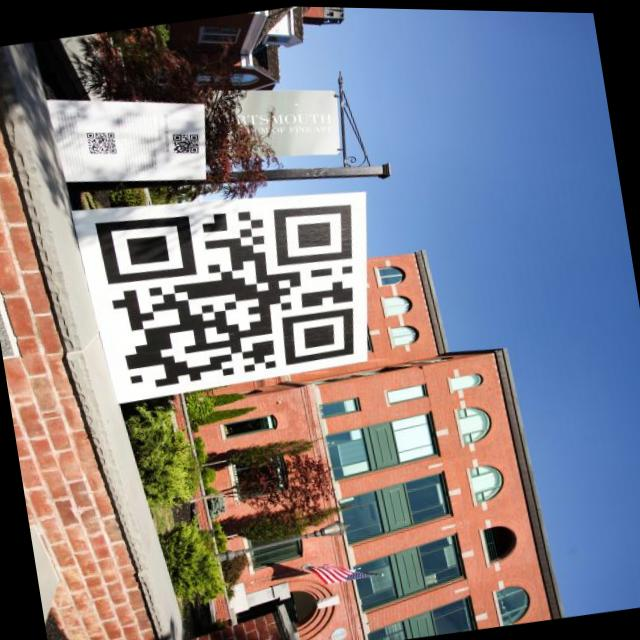qrcode: (96, 184, 376, 398), (87, 130, 117, 158), (171, 131, 201, 157)
